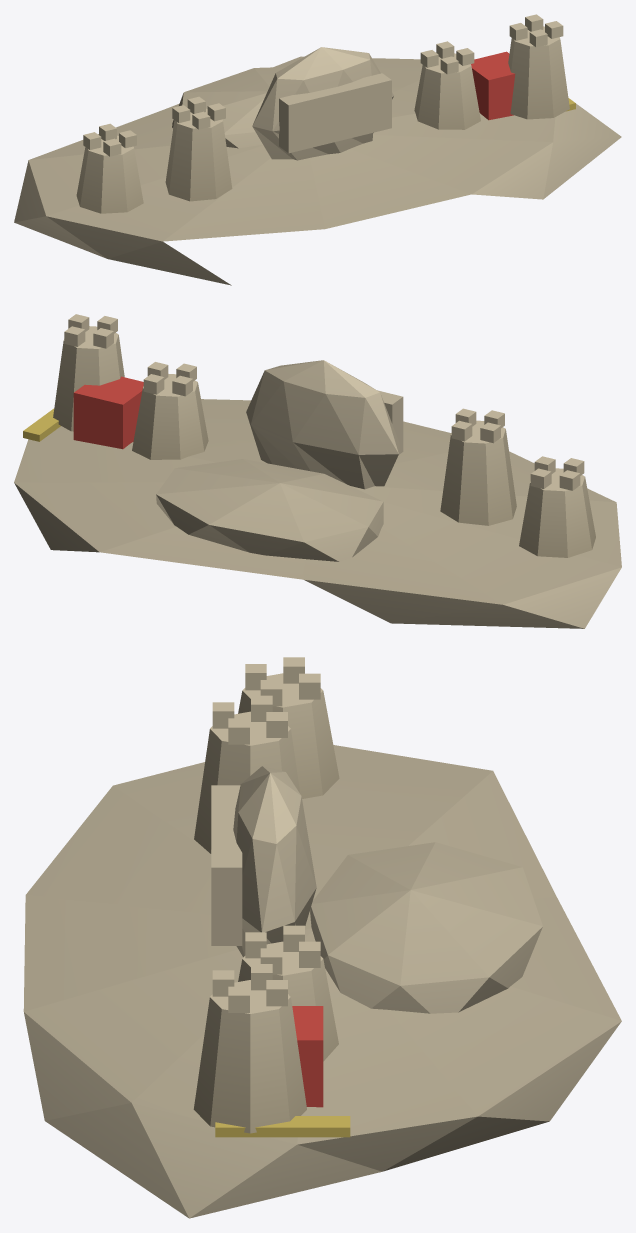
The model's file is lapide_areia.glb.
3 renders of one model, top to bottom at view 1: azimuth 30°, elevation 25°; view 2: azimuth 150°, elevation 25°; view 3: azimuth 270°, elevation 25°, orthographic. The views are drawn at different scales.
Parts seen in each view (by area): view 1: Malha_0; view 2: Malha_0; view 3: Malha_0.
Boxes of the visible parts, x1=… form: Malha_0: x1=14, y1=14, x2=621, y2=285; Malha_0: x1=14, y1=314, x2=621, y2=628; Malha_0: x1=23, y1=657, x2=621, y2=1218.
Bounding box in the file's own units: 3.78 × 0.9325 × 2.25.
